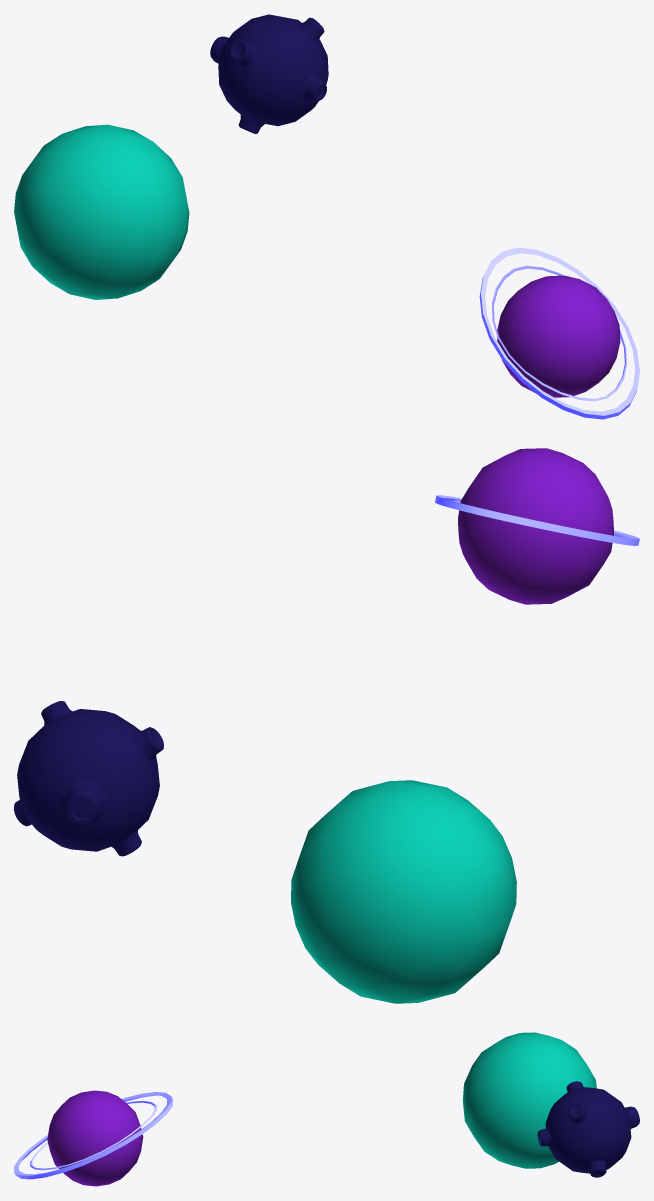
File: Planet.fbx
The picture shows the model from 3 angles, top to bottom: view 1: azimuth 30°, elevation 25°; view 2: azimuth 150°, elevation 25°; view 3: azimuth 270°, elevation 25°; orthographic projection. The views are drawn at different scales.
Visible parts, largest first — view 1: Sphere.006, Sphere.005, Sphere.008; view 2: Sphere.006, Sphere.005, Sphere.008; view 3: Sphere.006, Sphere.005, Sphere.008.
Boxes of the visible parts, bbox=[...] form: Sphere.006: bbox=[14, 124, 189, 299]; Sphere.005: bbox=[479, 247, 639, 419]; Sphere.008: bbox=[210, 14, 328, 133]; Sphere.006: bbox=[291, 780, 516, 1003]; Sphere.005: bbox=[435, 448, 639, 604]; Sphere.008: bbox=[14, 701, 163, 856]; Sphere.006: bbox=[462, 1032, 596, 1168]; Sphere.005: bbox=[14, 1090, 172, 1186]; Sphere.008: bbox=[537, 1081, 639, 1177].
Size of the model in its own units: 474 by 984 by 259.
